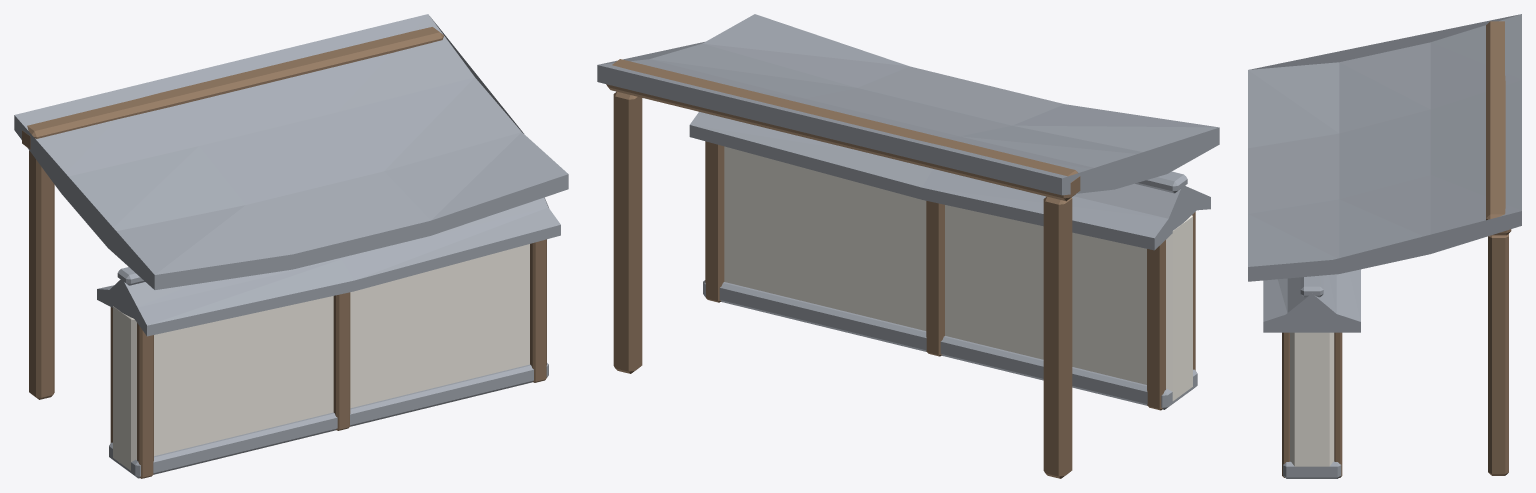
The model's file is feudal-japan-castle-town-wall-walk-roofed-92c5b27a__26587.glb.
3 renders of one model, left to right at view 1: azimuth 30°, elevation 25°; view 2: azimuth 150°, elevation 25°; view 3: azimuth 270°, elevation 25°, orthographic. The views are drawn at different scales.
Parts seen in each view (by area): view 1: wall-walk-roofed; view 2: wall-walk-roofed; view 3: wall-walk-roofed.
Boxes of the visible parts, box(x1,y1,x2,y2) form: wall-walk-roofed: box(14, 14, 568, 478); wall-walk-roofed: box(597, 14, 1219, 478); wall-walk-roofed: box(1248, 14, 1521, 478).
Size of the model in its own units: 4 by 2.55 by 2.35.
